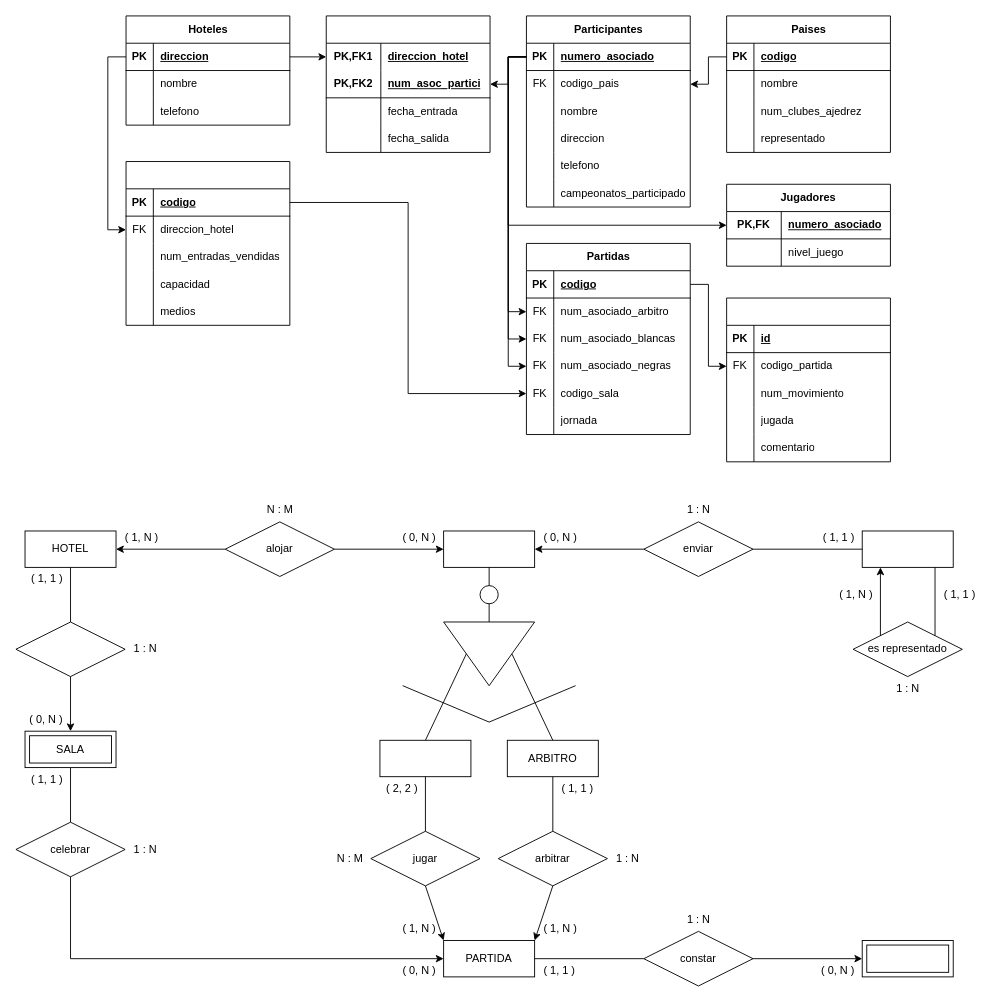
The diagram is 999 pixels wide and 1002 high, and some of its shapes have lost their labels. Each missing label, with the box of its shape:
disponer: (15, 621, 125, 677)
Hoteles_Participantes: (325, 15, 490, 152)
JUGADOR: (379, 739, 471, 777)
MOVIMIENTO: (861, 940, 953, 977)
Movimientos: (726, 297, 890, 462)
PAIS: (861, 530, 953, 567)
PARTICIPANTE: (443, 530, 535, 567)
Salas: (125, 161, 290, 325)
